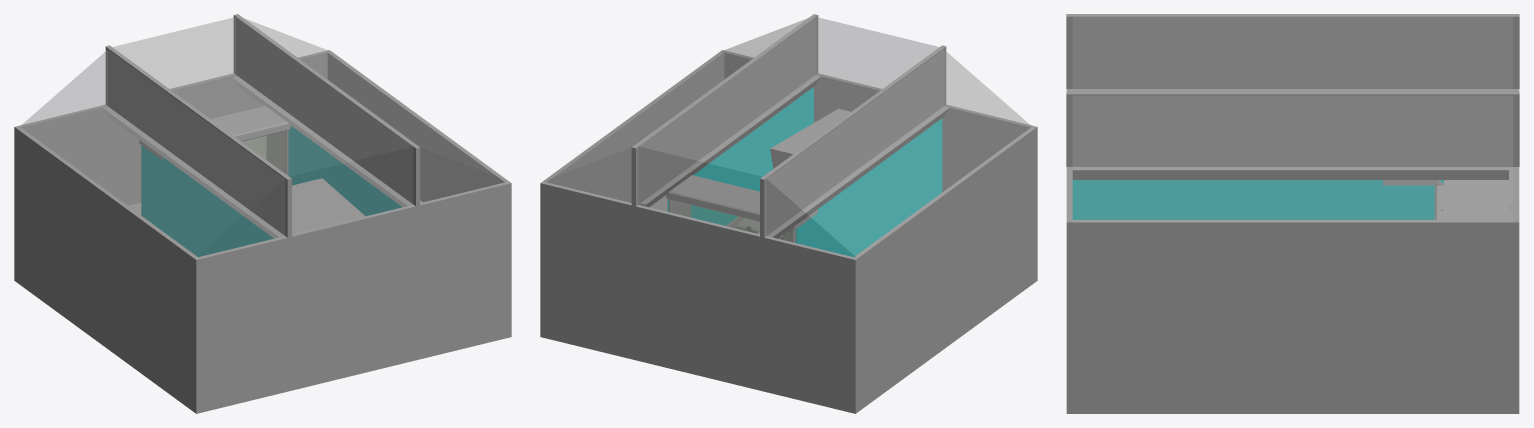
File: projectlab.fbx
The picture shows the model from 3 angles, left to right: view 1: azimuth 30°, elevation 25°; view 2: azimuth 150°, elevation 25°; view 3: azimuth 270°, elevation 25°; orthographic projection. The views are drawn at different scales.
Visible parts, largest first — view 1: glass_roof, pCube2, pCube3, pCube64, pCube65, pCube4, glass1, pCube5, pasted__pCube46, pCube57, ground, pCube59 (+3 smaller); view 2: glass_roof, pCube4, pCube3, pCube64, pCube65, glass1, pCube5, pCube2, pasted__pCube46, pCube60, ground, pCube59 (+3 smaller); view 3: glass_roof, pCube5, pCube64, pCube65, pasted__pCube46, pCube62, second_floor, ground, pCube4, pCube2, pCube59.
Boxes of the visible parts, x1,y1,x2,y2 form: glass_roof: [18, 16, 507, 257]; pCube2: [194, 181, 511, 409]; pCube3: [17, 127, 197, 407]; pCube64: [233, 14, 420, 206]; pCube65: [105, 45, 291, 237]; pCube4: [14, 50, 331, 277]; glass1: [141, 145, 273, 256]; pCube5: [327, 52, 508, 202]; pasted__pCube46: [288, 126, 401, 215]; pCube57: [292, 178, 364, 233]; ground: [14, 276, 511, 413]; pCube59: [102, 106, 294, 238]; glass_roof: [544, 16, 1033, 257]; pCube4: [540, 181, 857, 409]; pCube3: [854, 127, 1034, 407]; pCube64: [631, 14, 818, 206]; pCube65: [760, 45, 946, 237]; glass1: [796, 118, 942, 256]; pCube5: [543, 52, 724, 202]; pCube2: [720, 50, 1037, 277]; pasted__pCube46: [667, 87, 813, 225]; pCube60: [666, 175, 817, 229]; ground: [540, 276, 1037, 413]; pCube59: [757, 106, 949, 238]; glass_roof: [1073, 15, 1512, 222]; pCube5: [1072, 220, 1513, 408]; pCube64: [1066, 92, 1519, 166]; pCube65: [1066, 14, 1519, 88]; pasted__pCube46: [1072, 180, 1434, 219]; pCube62: [1072, 167, 1508, 179]; second_floor: [1437, 167, 1513, 219]; ground: [1066, 408, 1519, 413]; pCube4: [1513, 89, 1519, 408]; pCube2: [1066, 89, 1072, 408]; pCube59: [1072, 89, 1513, 91].
Bounding box in the file's own units: 75.07 × 48.61 × 75.11.
